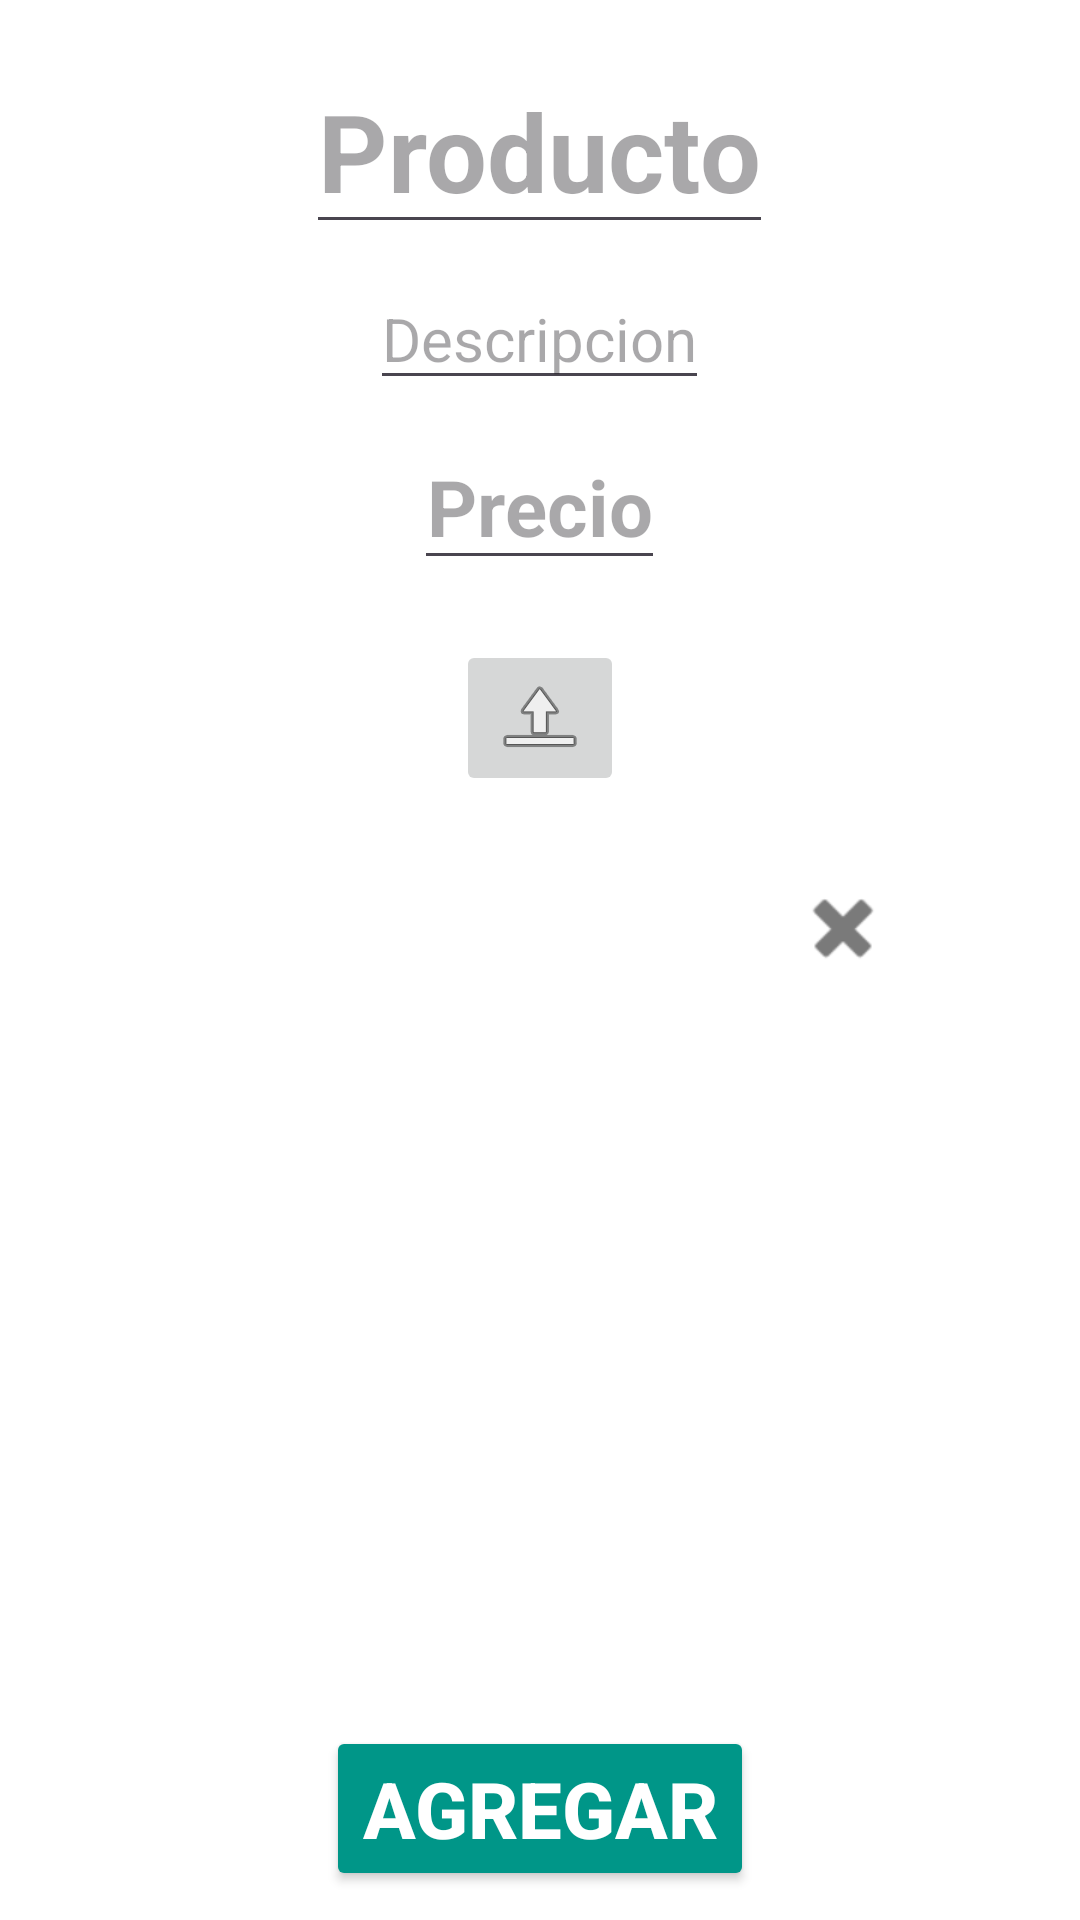

Where icons sit on this 1080 × 1920 app screen, as (x1, y1, x2, y2):
delete: (813, 899, 873, 958)
upload: (468, 658, 612, 778)
